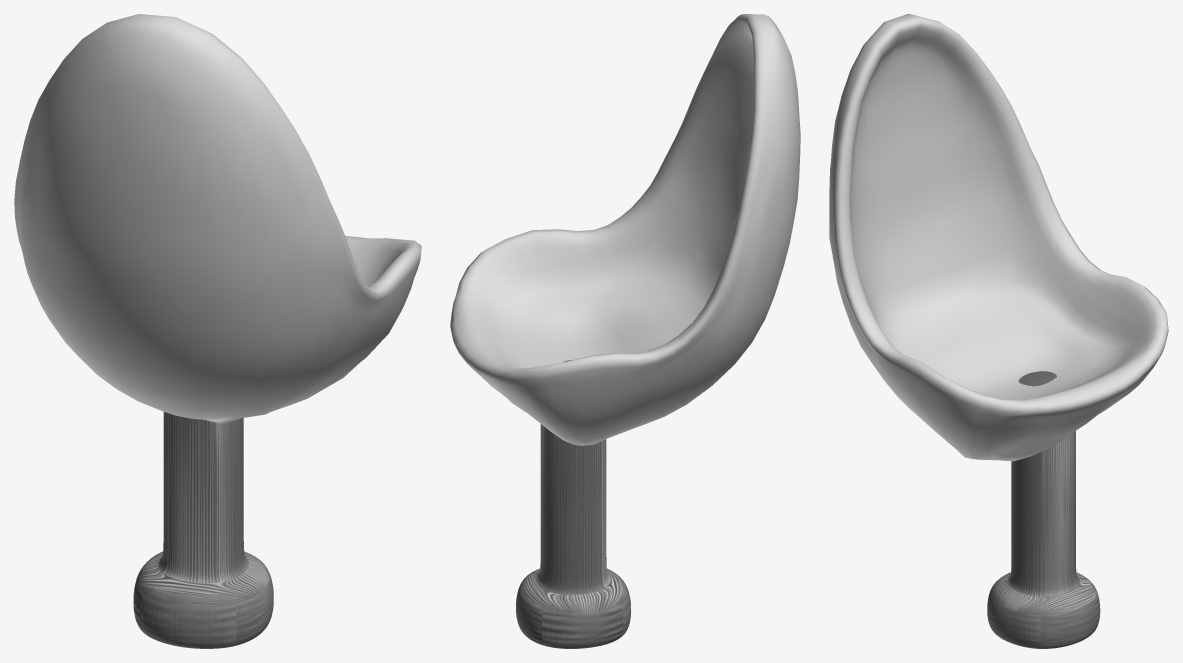
File: SillaRoja.fbx
3 views of the same model, side by side, from view 1: azimuth 30°, elevation 25°; view 2: azimuth 150°, elevation 25°; view 3: azimuth 270°, elevation 25° (orthographic). The views are drawn at different scales.
Parts seen in each view (by area): view 1: Sillas, PaloSilla.003; view 2: Sillas, PaloSilla.003; view 3: Sillas, PaloSilla.003.
Boxes of the visible parts, bbox=[...] form: Sillas: bbox=[14, 14, 421, 424]; PaloSilla.003: bbox=[133, 412, 273, 648]; Sillas: bbox=[450, 14, 800, 445]; PaloSilla.003: bbox=[516, 360, 631, 648]; Sillas: bbox=[829, 14, 1168, 461]; PaloSilla.003: bbox=[987, 371, 1100, 648].
Bounding box in the file's own units: 449 × 807 × 445.
Materials: 2 (1 with a texture image).
